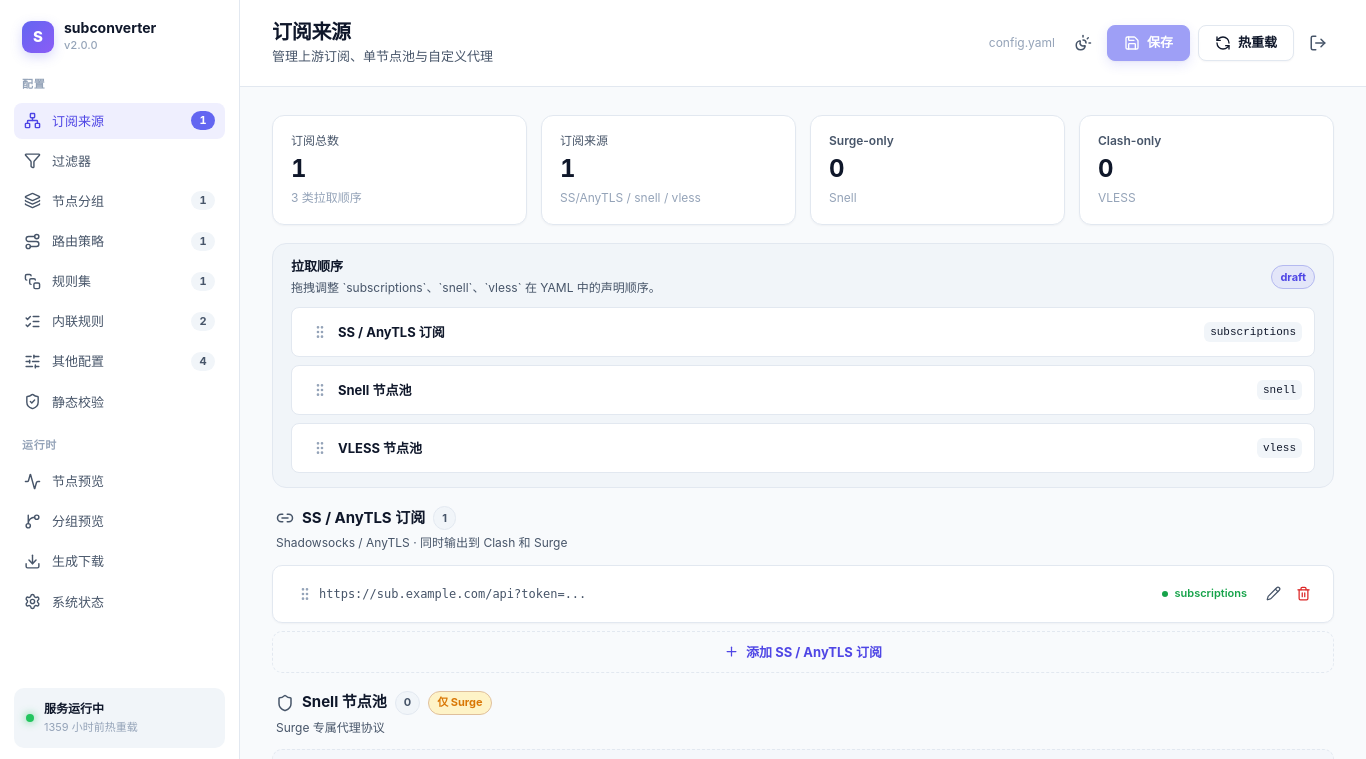
Test: save workflow › branches 409 save error config_revision_conflict
Expected: the heading "订阅来源" is shown, [272,20,351,44]
Click the button "添加 SS / AnyTLS 订阅" at (803, 652), box [272,631,1334,673]
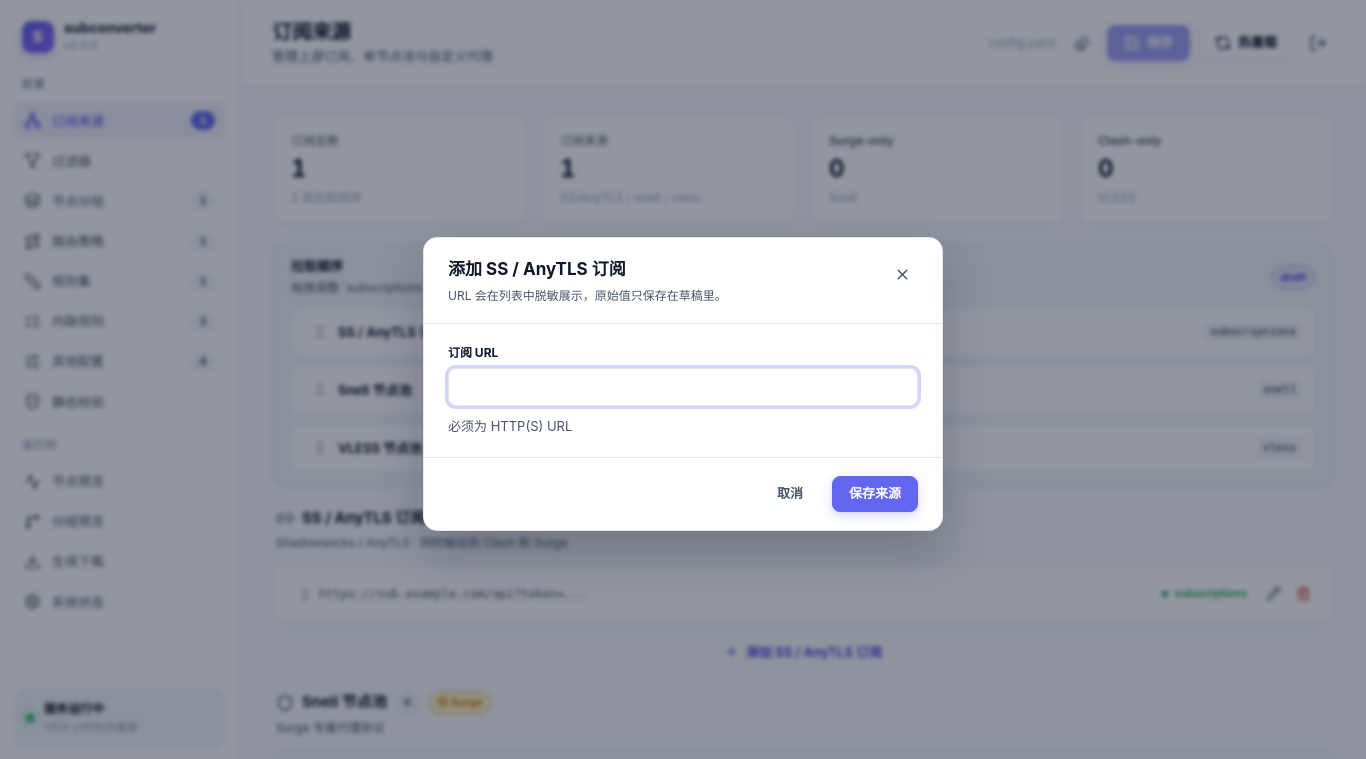
Result: the dialog "添加 SS / AnyTLS 订阅" is shown at [423,237,943,531]
Type "https://sub.example.com/new?token=secret" into the field at (683, 387), box [448,368,918,406]
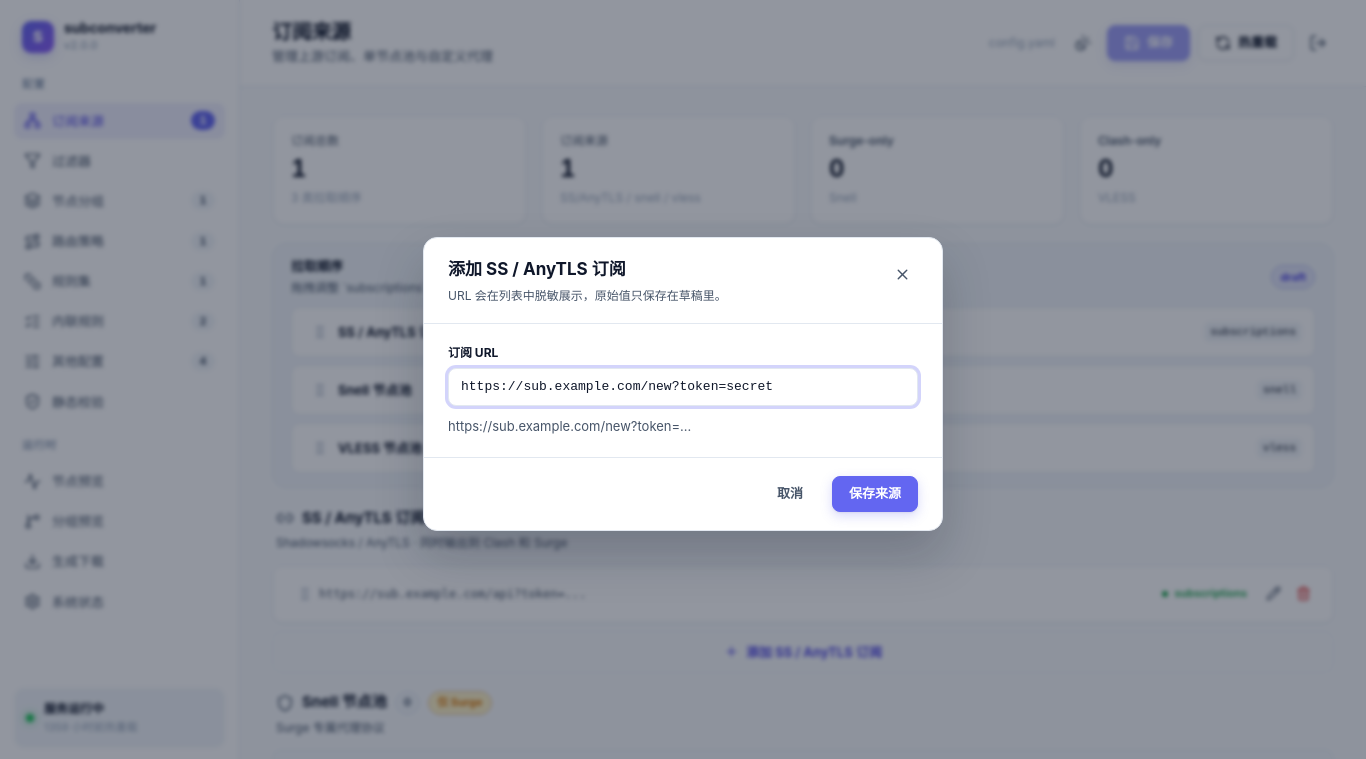
Click the button "保存来源" at (875, 494), box [832,476,918,512]
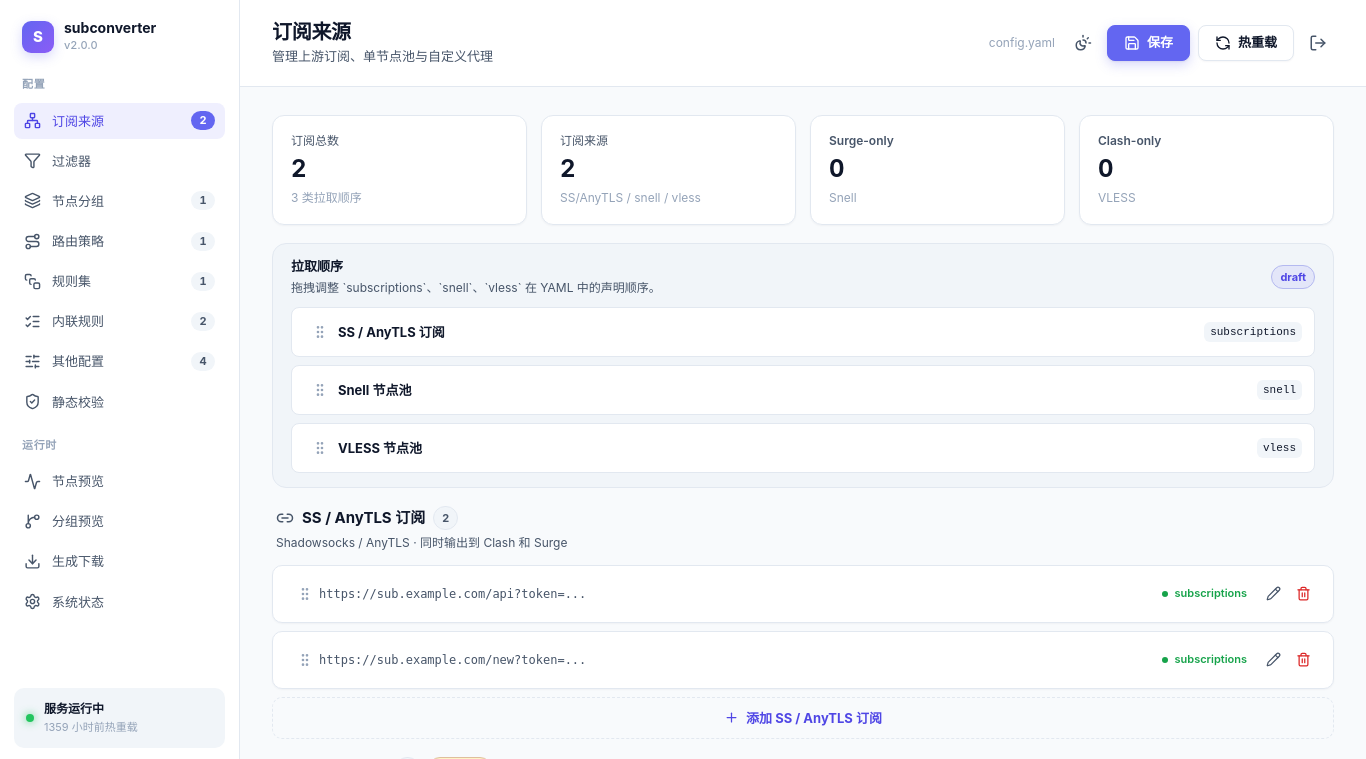
Result: the button "保存" is enabled
Click the button "保存" at (1148, 43), box [1107,25,1190,61]
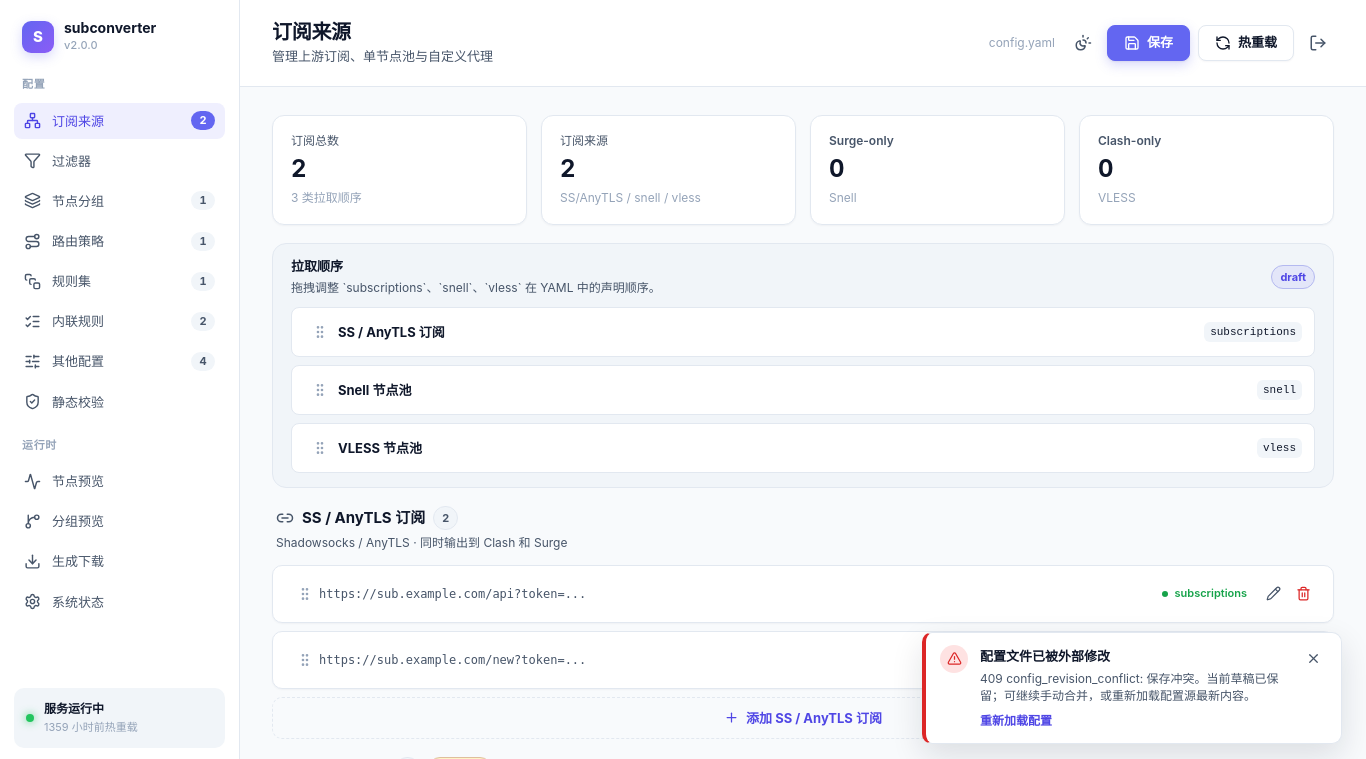
Result: the text "配置文件已被外部修改" is shown at [980,648,1110,664]
Result: the button "重新加载配置" is shown at [980,712,1052,731]
